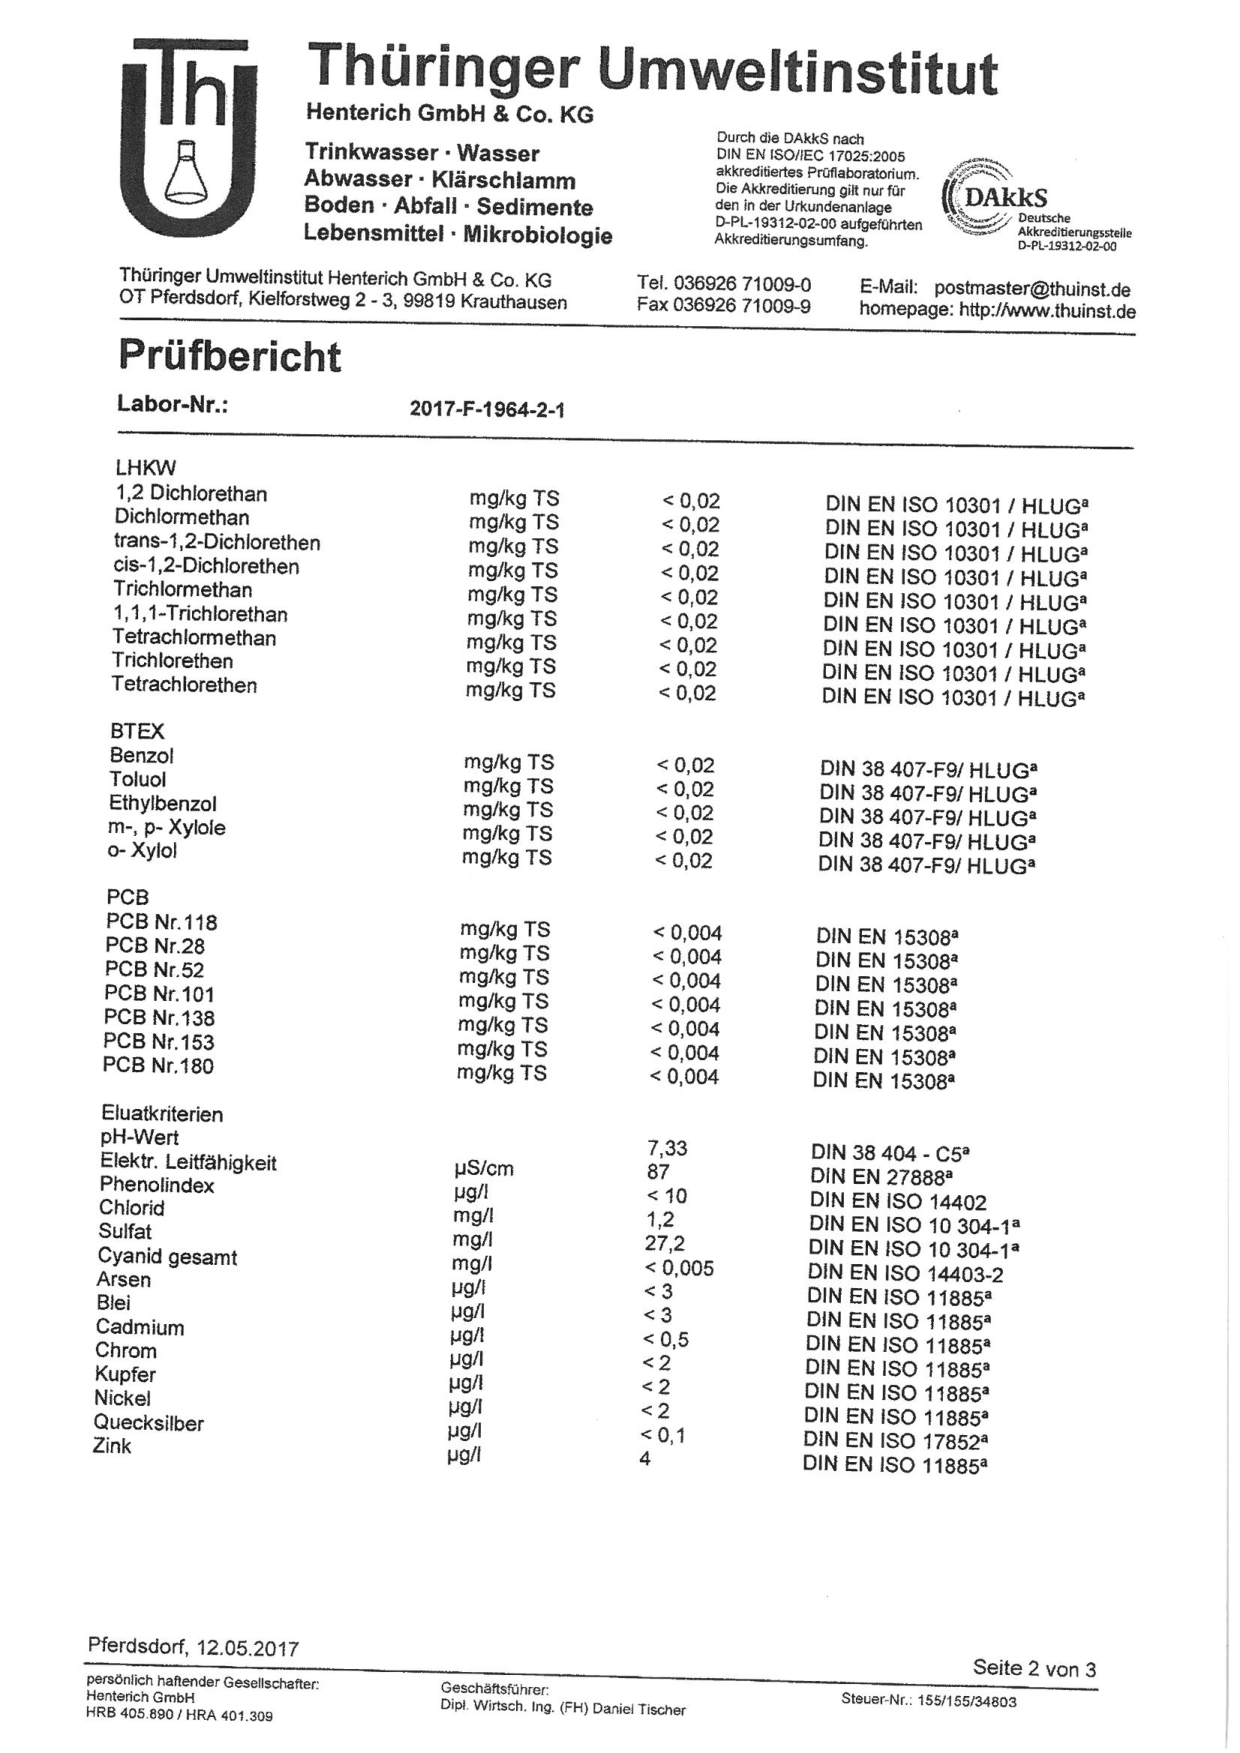table: (72, 1101, 1091, 1505), (89, 448, 1106, 709), (89, 879, 1004, 1095), (76, 715, 1062, 879)
